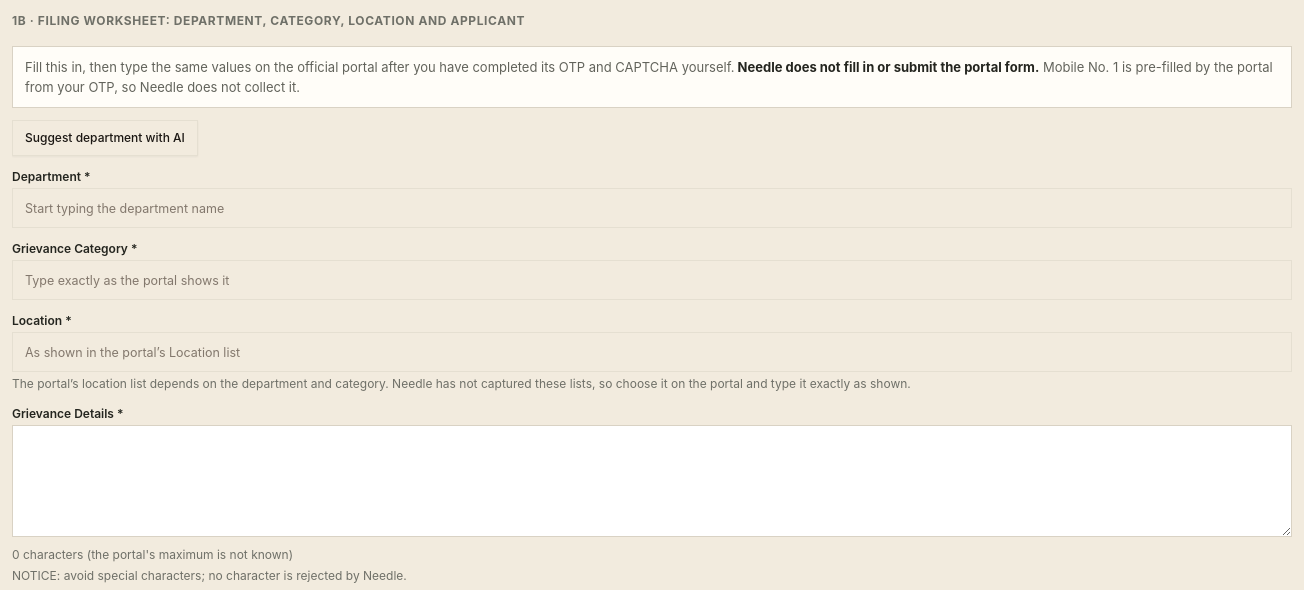
Test: DelhiFilingWorksheet › a department name that is not one of the portal’s is flagged
Step 1. Type "Imaginary Department" into the field labelled "Department *" → (652, 208), box [12,188,1292,228]
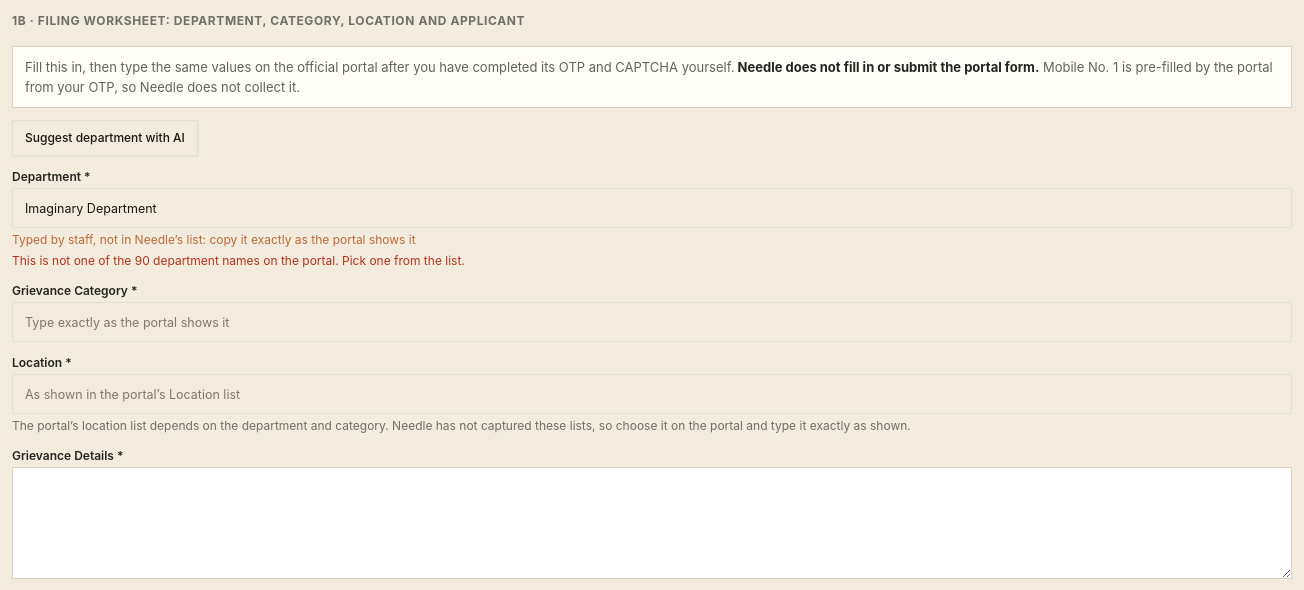
Expected: the text with test id "delhi-fw-dept-status" shows "not one of the 90 department names", [12,253,465,268]
Expected: the text with test id "delhi-fw-source-department" shows "Typed by staff", [12,232,416,247]
